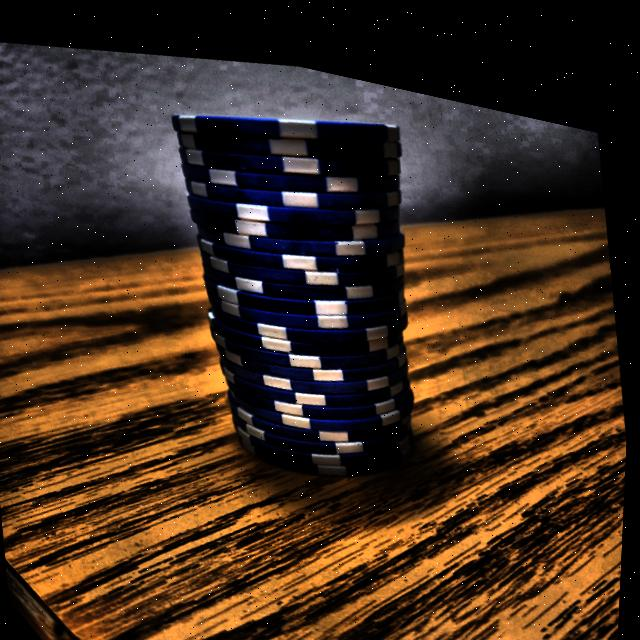Chip: (136, 46, 474, 522)
